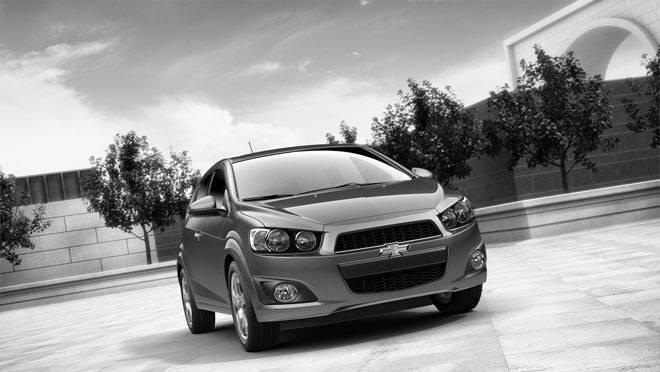car: (178, 142, 487, 358)
